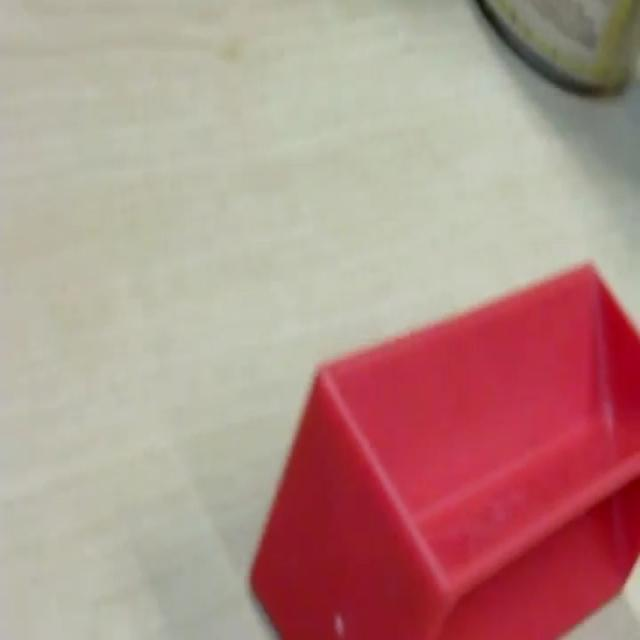red_block: (247, 258, 638, 638)
